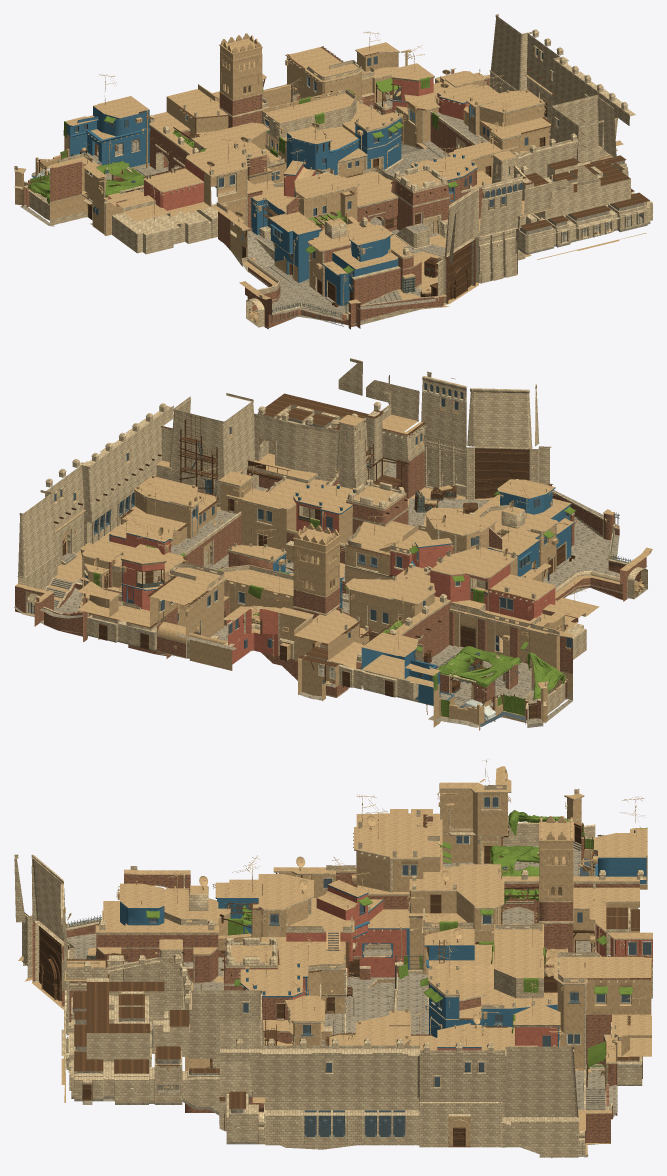
Rendered from map_mirage.glb.
The picture shows the model from 3 angles, top to bottom: view 1: azimuth 30°, elevation 25°; view 2: azimuth 150°, elevation 25°; view 3: azimuth 270°, elevation 25°; orthographic projection. The views are drawn at different scales.
Visible parts, largest first — view 1: Mirage_native_A, Mirage_native_Mid, Mirage_native_T, Mirage_native_B; view 2: Mirage_native_A, Mirage_native_Mid, Mirage_native_T, Mirage_native_B; view 3: Mirage_native_Mid, Mirage_native_A, Mirage_native_T, Mirage_native_B.
Boxes of the visible parts, left/top/right/bottom form: Mirage_native_A: left=239, top=96, right=652, bottom=329; Mirage_native_Mid: left=39, top=33, right=518, bottom=276; Mirage_native_T: left=329, top=14, right=635, bottom=177; Mirage_native_B: left=14, top=74, right=271, bottom=235; Mirage_native_A: left=145, top=358, right=652, bottom=601; Mirage_native_Mid: left=77, top=464, right=599, bottom=713; Mirage_native_T: left=14, top=393, right=339, bottom=654; Mirage_native_B: left=305, top=565, right=577, bottom=730; Mirage_native_Mid: left=108, top=794, right=652, bottom=1124; Mirage_native_A: left=14, top=854, right=356, bottom=1147; Mirage_native_T: left=139, top=958, right=651, bottom=1158; Mirage_native_B: left=401, top=760, right=647, bottom=955.
Bounding box in the file's own units: 85.27 × 25.01 × 73.79.
11 materials, 11 textured.
